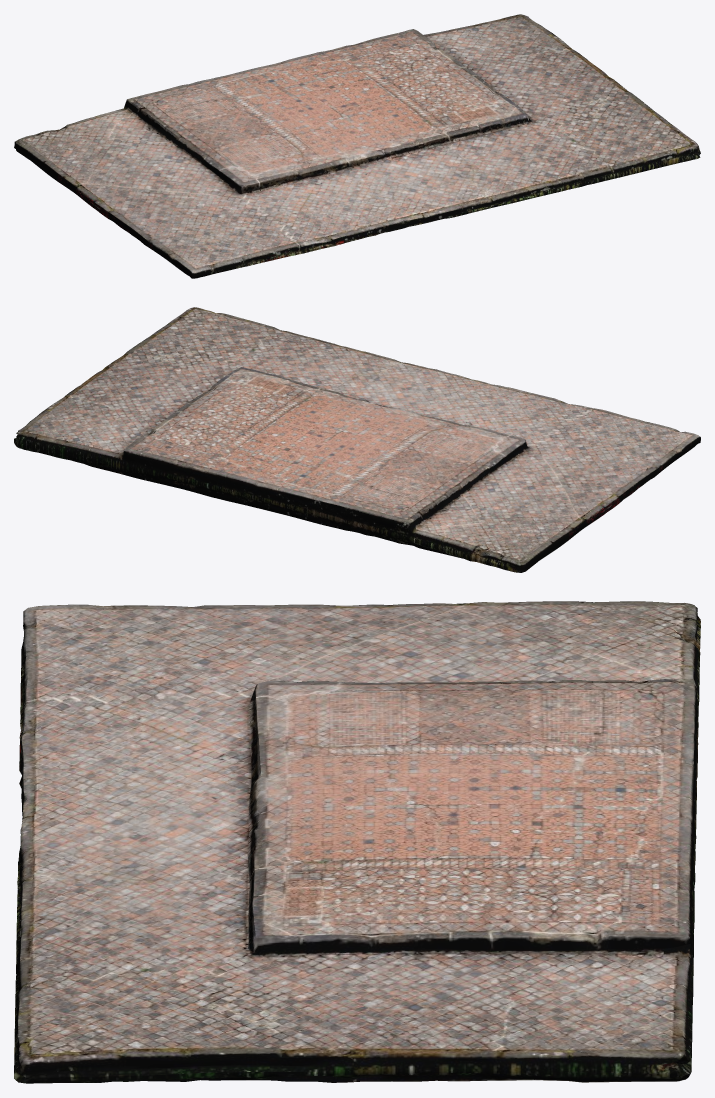
The picture shows the model from 3 angles, top to bottom: view 1: azimuth 30°, elevation 25°; view 2: azimuth 150°, elevation 25°; view 3: azimuth 270°, elevation 25°; orthographic projection. The views are drawn at different scales.
Parts seen in each view (by area): view 1: Object_3; view 2: Object_3; view 3: Object_3.
Part boxes in pixels (box(x1,y1,x2,y2)): Object_3: box(14, 14, 700, 278); Object_3: box(14, 307, 700, 572); Object_3: box(14, 601, 700, 1083).
Size of the model in its own units: 17.58 by 0.8856 by 10.91.
Materials: 1 (1 with a texture image).
